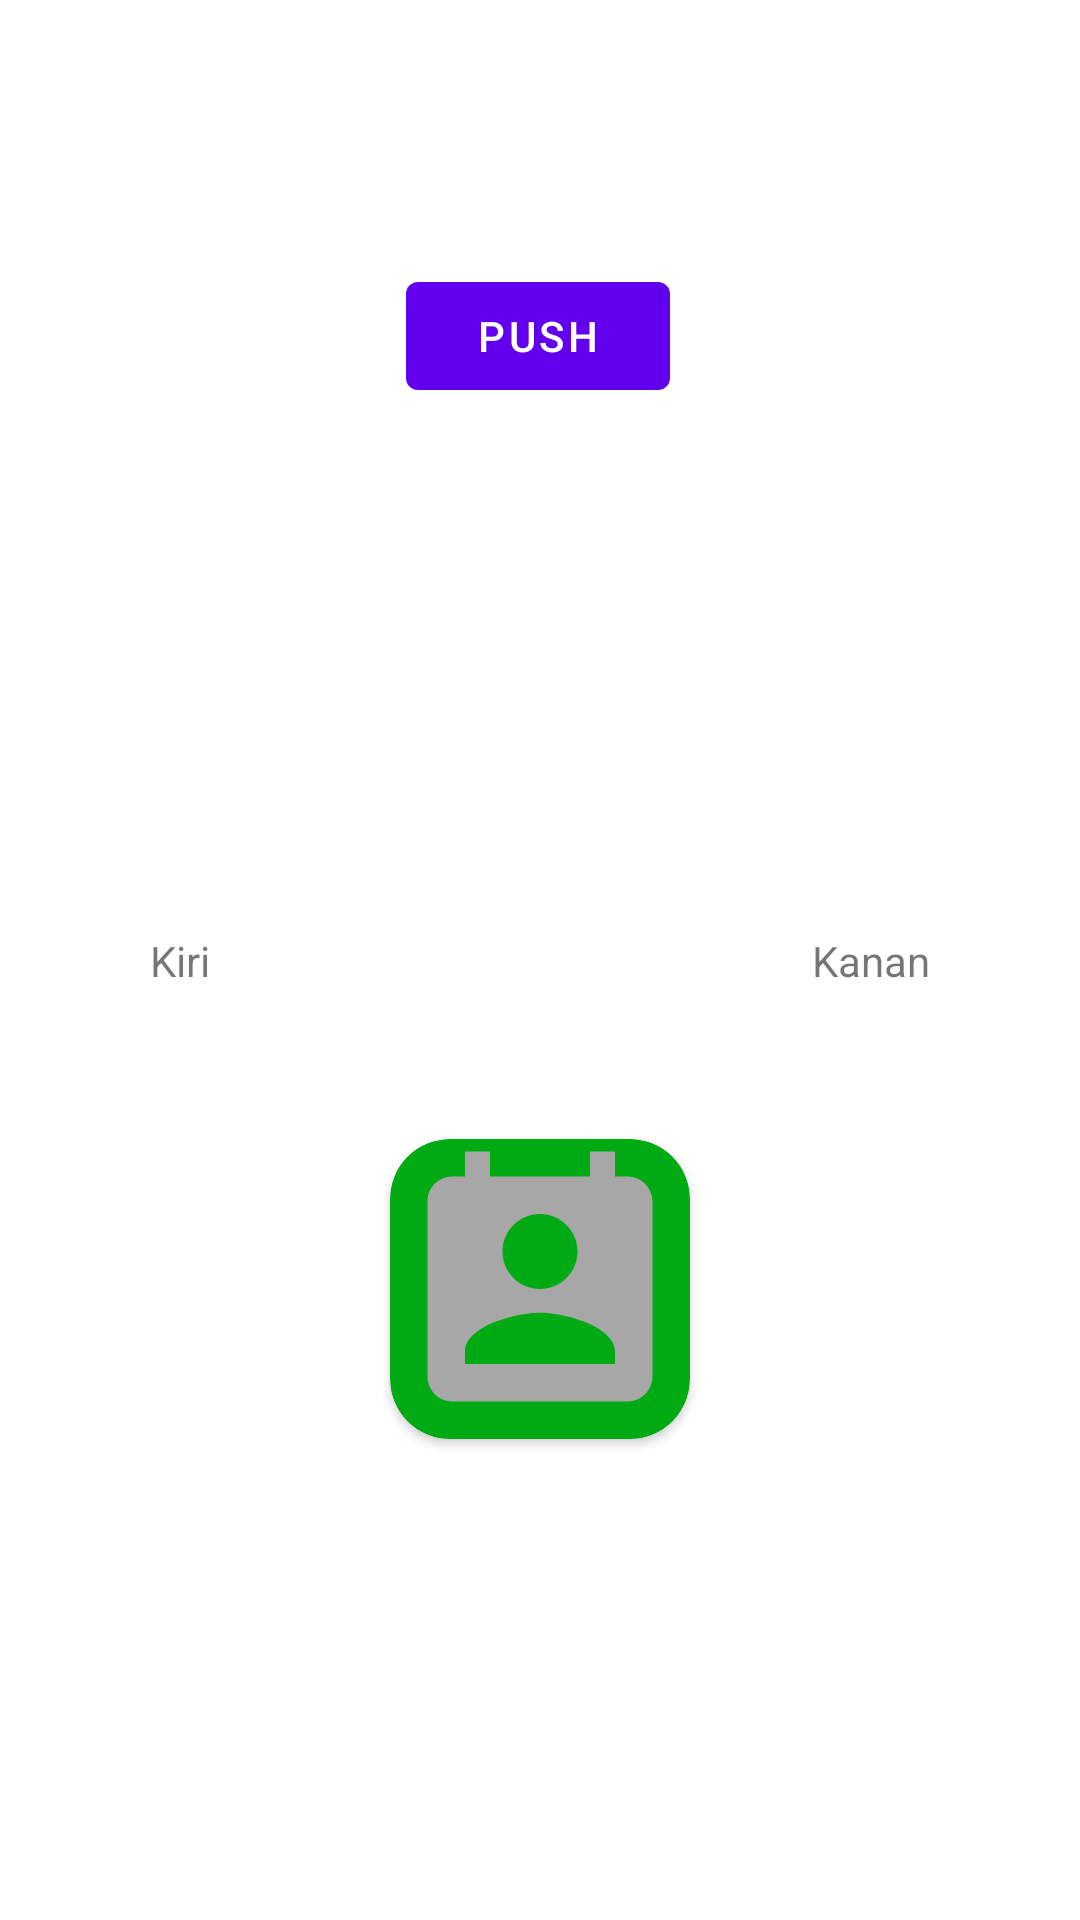

Named icons in this screenshot (1080*1920) and their centers, (x=x, y=y):
perm contact calendar: (x=540, y=1289)
